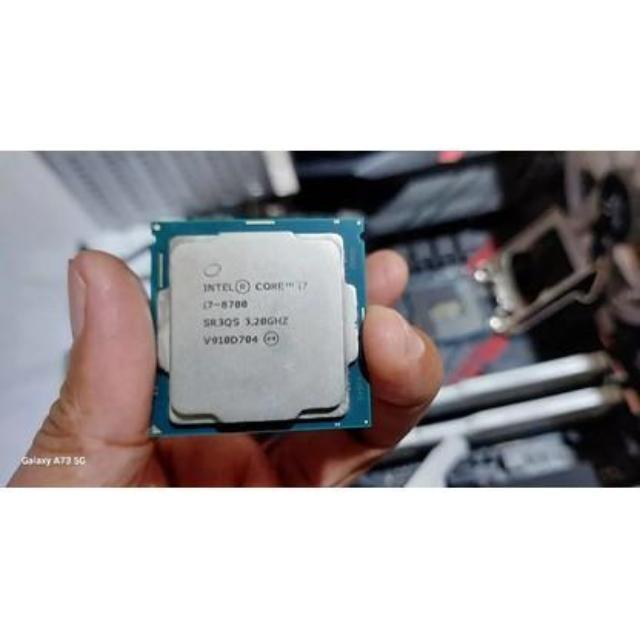CPU: (149, 218, 369, 430)
